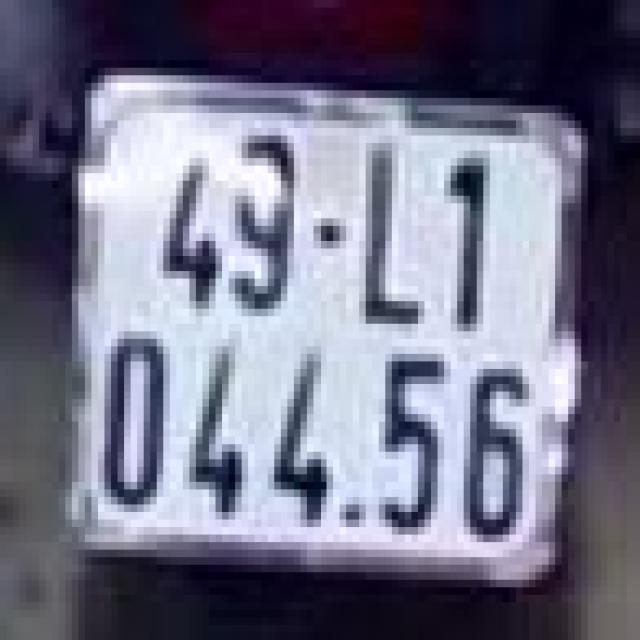0: (88, 312, 180, 531)
1: (434, 151, 506, 331)
4: (264, 339, 343, 542), (183, 331, 255, 542), (156, 136, 228, 316)
5: (369, 342, 447, 546)
6: (460, 354, 539, 550)
9: (225, 124, 304, 320)
L: (336, 128, 428, 331)
